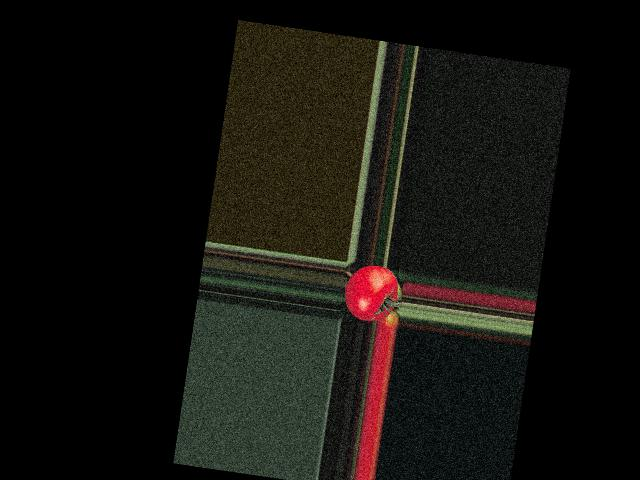tomato: (340, 261, 400, 323)
